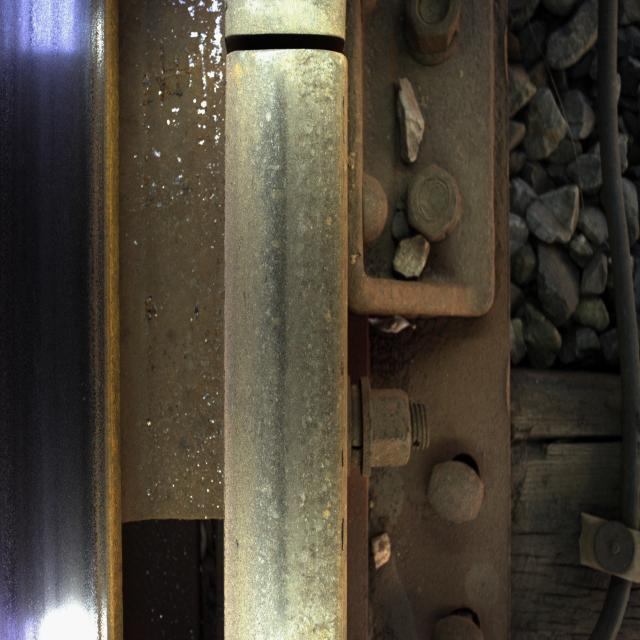spalling: (206, 0, 370, 88)
